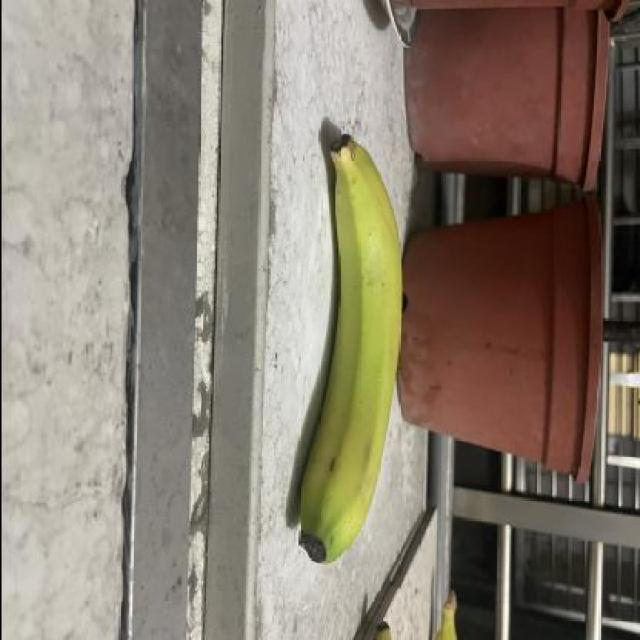banana: (283, 121, 406, 570)
